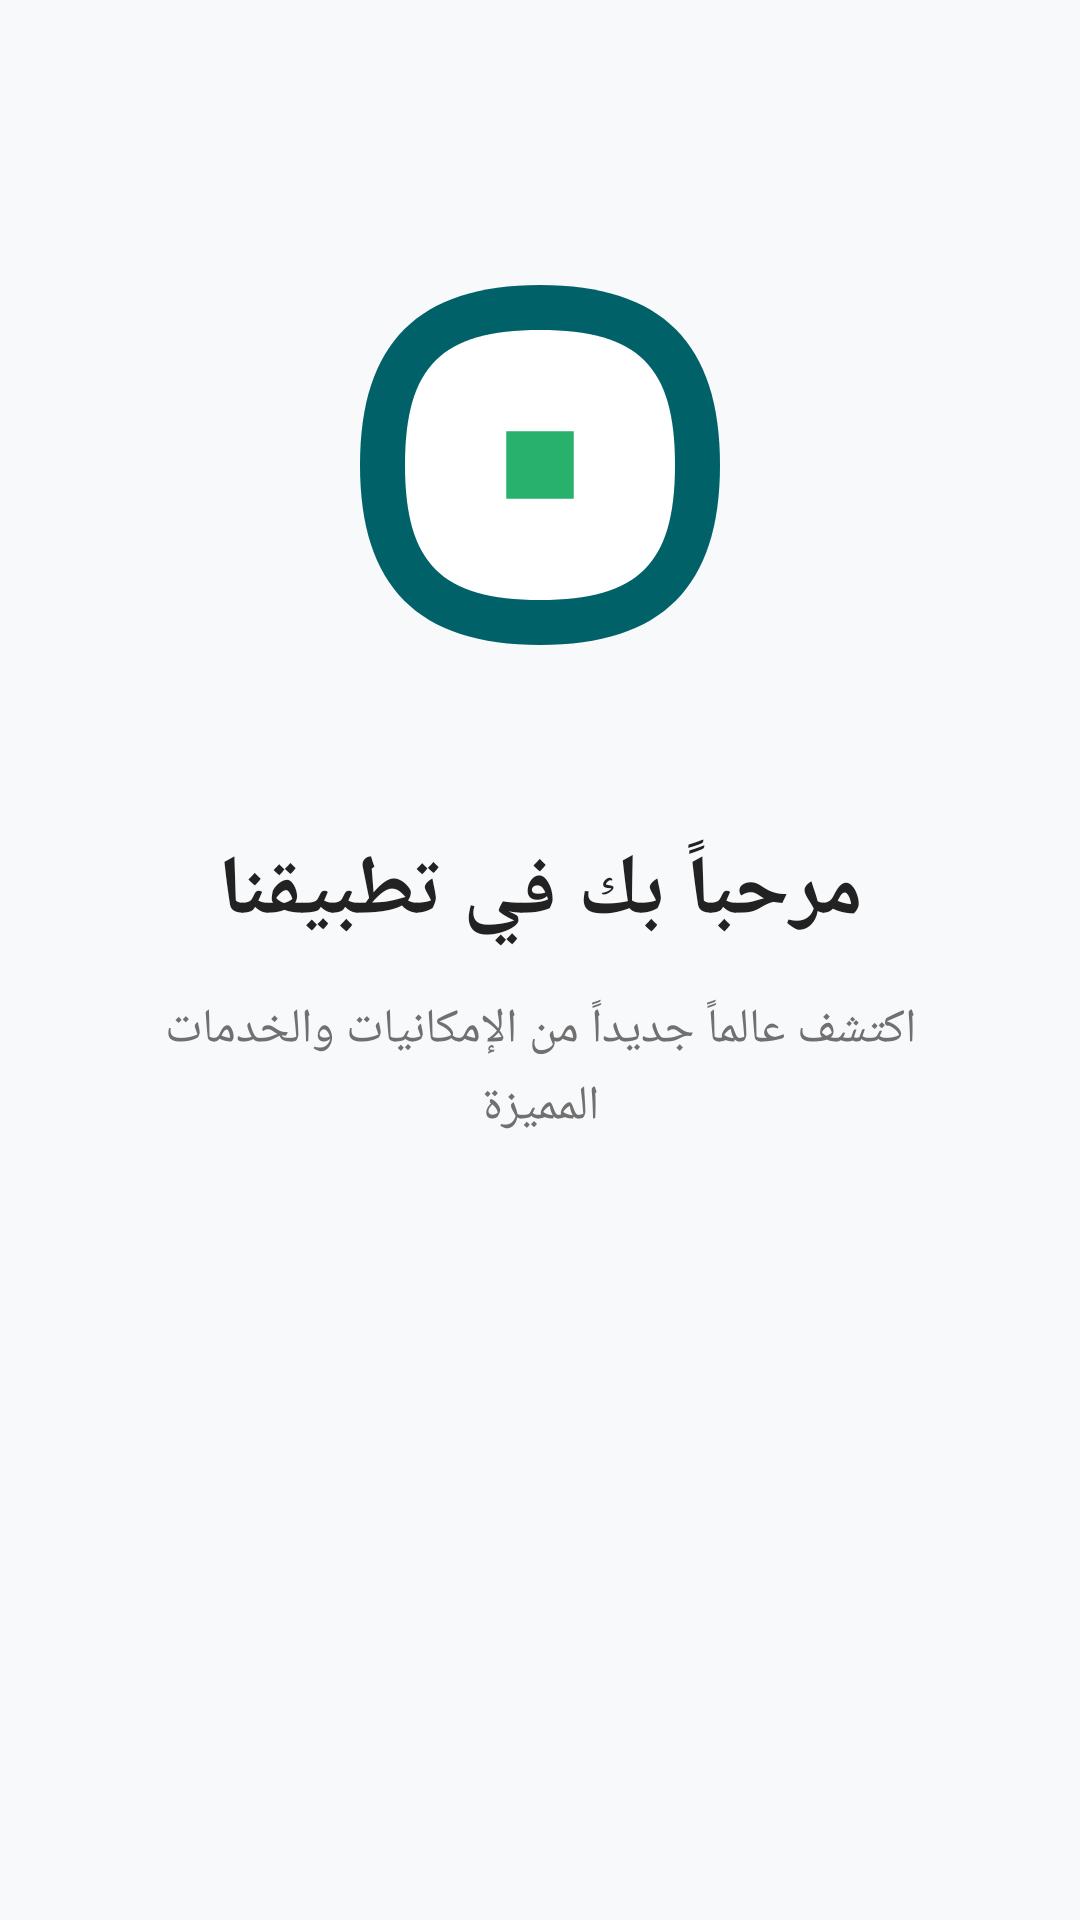

Locate icon controls on the screen. Image size 1080×1920, boxes as (x1, y1, x2, y2).
صورة الترحيب: (360, 285, 720, 645)
